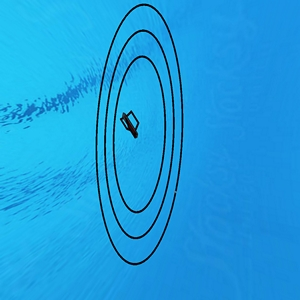circle: (89, 3, 213, 269)
submarine: (119, 110, 143, 139)
